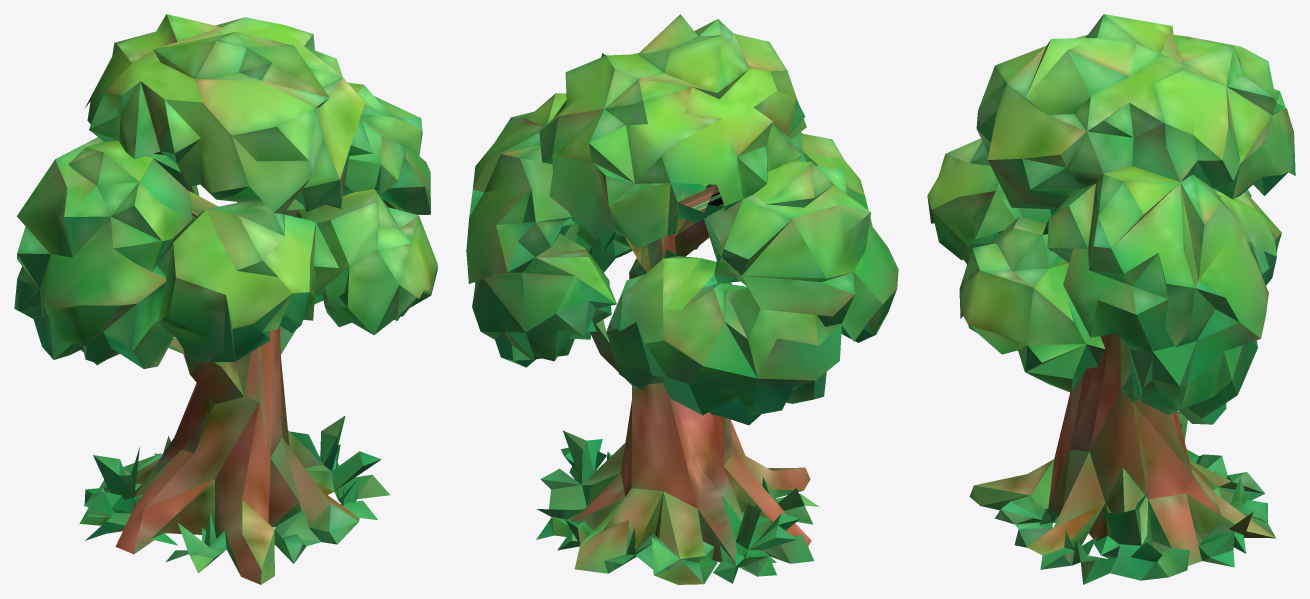
File: deciduous-tree.glb
3 views of the same model, side by side, from view 1: azimuth 30°, elevation 25°; view 2: azimuth 150°, elevation 25°; view 3: azimuth 270°, elevation 25° (orthographic).
Visible parts, largest first — view 1: output_unwrapped; view 2: output_unwrapped; view 3: output_unwrapped.
Boxes of the visible parts, bbox=[...] form: output_unwrapped: bbox=[14, 14, 437, 584]; output_unwrapped: bbox=[466, 14, 898, 584]; output_unwrapped: bbox=[927, 14, 1295, 584].
Size of the model in its own units: 1.6 by 1.9 by 1.29.
1 material, 1 textured.
